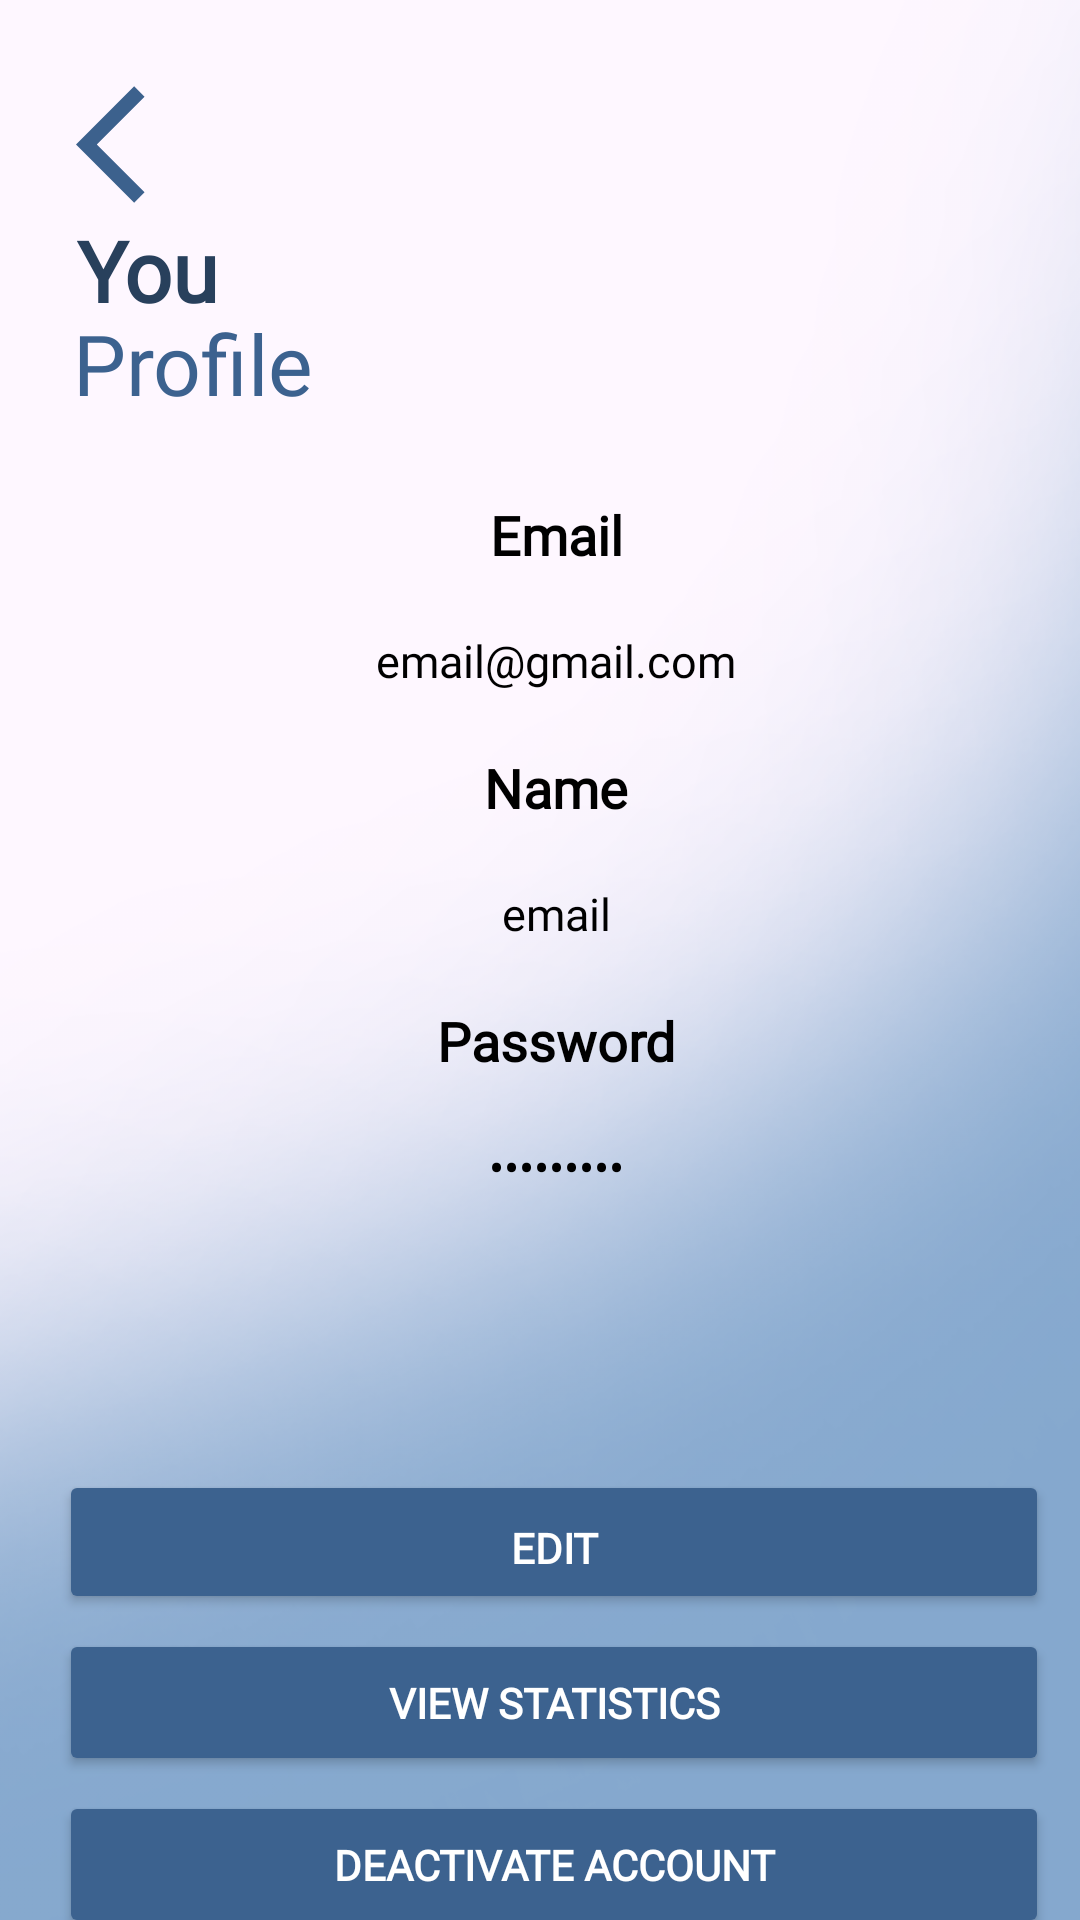

Icons on this 1080px x 1920px Android screen, each with its box as (x1, y1, x2, y2):
arrow back: (76, 86, 145, 203)
